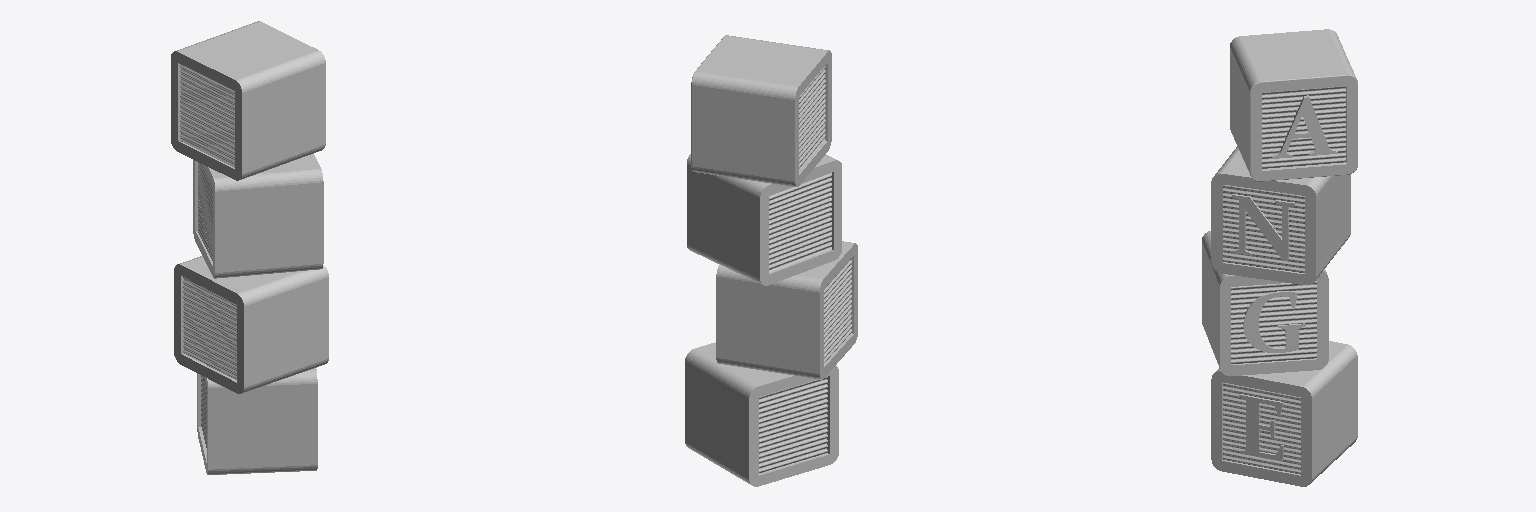
Rendered from blocks.obj.
The picture shows the model from 3 angles: view 1: azimuth 30°, elevation 25°; view 2: azimuth 150°, elevation 25°; view 3: azimuth 270°, elevation 25°; orthographic projection.
Parts seen in each view (by area): view 1: Cube_Cube.002, Cube.002_Cube.004, Cube.001_Cube.003, Cube.003_Cube.005, Plane.006, Plane.005, Plane.007; view 2: Cube_Cube.002, Cube.002_Cube.004, Cube.003_Cube.005, Cube.001_Cube.003, Plane.004, Plane.007, Plane.005, Plane.006; view 3: Cube_Cube.002, Cube.003_Cube.005, Cube.001_Cube.003, Cube.002_Cube.004, Plane.002, Plane, Plane.003, Plane.001, Text.001_CUText.002, Text.002_CUText.000, Text_CUText, Text.003_CUText.003.
Boxes of the visible parts, x1=… form: Cube_Cube.002: x1=171, y1=21, x2=325, y2=180; Cube.002_Cube.004: x1=174, y1=256, x2=328, y2=393; Cube.001_Cube.003: x1=193, y1=154, x2=323, y2=278; Cube.003_Cube.005: x1=197, y1=368, x2=317, y2=474; Plane.006: x1=180, y1=65, x2=234, y2=167; Plane.005: x1=183, y1=277, x2=236, y2=379; Plane.007: x1=198, y1=162, x2=212, y2=260; Cube_Cube.002: x1=691, y1=35, x2=831, y2=186; Cube.002_Cube.004: x1=716, y1=241, x2=857, y2=379; Cube.003_Cube.005: x1=685, y1=342, x2=838, y2=486; Cube.001_Cube.003: x1=687, y1=154, x2=841, y2=285; Plane.004: x1=759, y1=377, x2=827, y2=472; Plane.007: x1=769, y1=173, x2=831, y2=272; Plane.005: x1=824, y1=259, x2=851, y2=362; Plane.006: x1=799, y1=66, x2=825, y2=171; Cube_Cube.002: x1=1230, y1=29, x2=1357, y2=181; Cube.003_Cube.005: x1=1211, y1=341, x2=1357, y2=486; Cube.001_Cube.003: x1=1211, y1=146, x2=1350, y2=284; Cube.002_Cube.004: x1=1202, y1=231, x2=1328, y2=375; Plane.002: x1=1231, y1=281, x2=1316, y2=363; Plane: x1=1262, y1=86, x2=1345, y2=168; Plane.003: x1=1223, y1=383, x2=1300, y2=474; Plane.001: x1=1223, y1=185, x2=1304, y2=272; Text.001_CUText.002: x1=1232, y1=194, x2=1295, y2=260; Text.002_CUText.000: x1=1243, y1=291, x2=1305, y2=352; Text_CUText: x1=1272, y1=95, x2=1337, y2=158; Text.003_CUText.003: x1=1239, y1=394, x2=1283, y2=460.
Size of the model in its own units: 2.8 by 8 by 2.84.